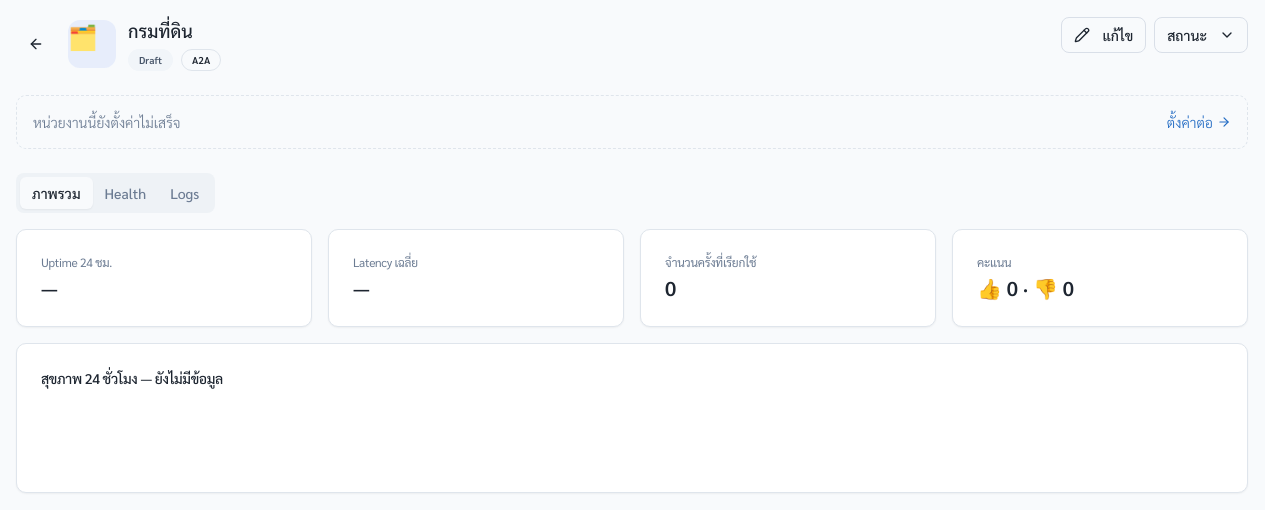
Scenario: AgencyDetailPage › offers direct activation for a draft
Check: the heading "กรมที่ดิน" is shown, box left=128, top=19, right=193, bottom=42
Step 1. Click the button "สถานะ" → coordinates (1201, 35), box left=1154, top=17, right=1248, bottom=53
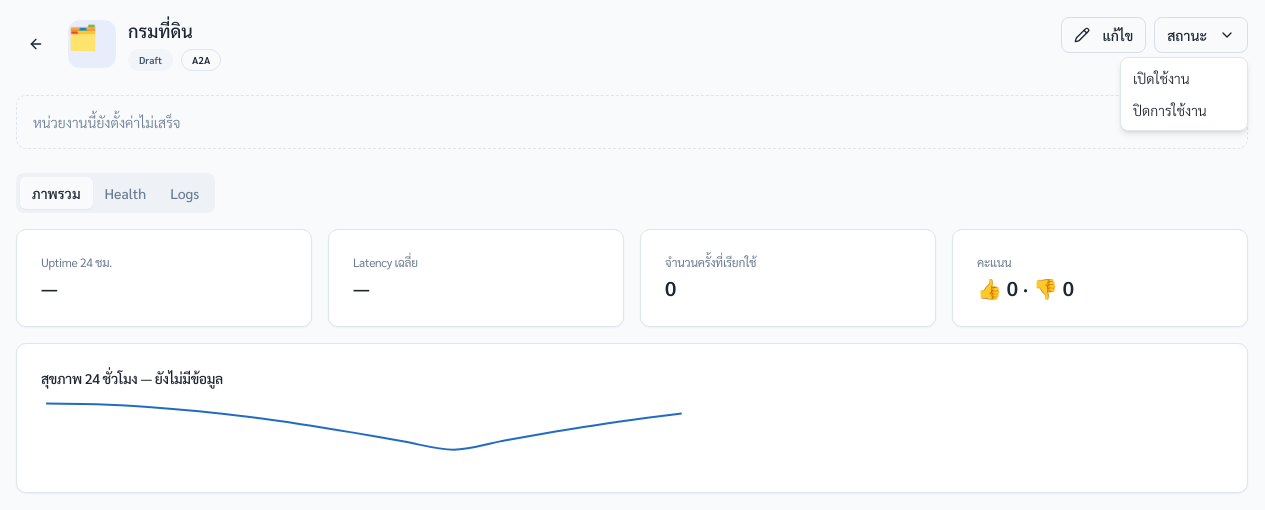
Check: the menu item "เปิดใช้งาน" is shown, box left=1133, top=69, right=1190, bottom=87
Check: the menu item "ปิดการใช้งาน" is shown, box left=1133, top=101, right=1207, bottom=119
